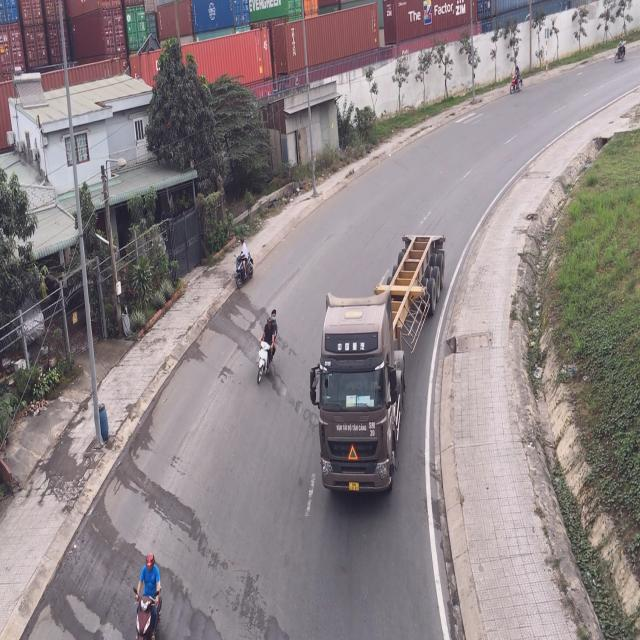motorbike: (134, 558, 162, 640), (256, 308, 279, 386), (235, 243, 255, 291), (616, 34, 629, 66), (509, 65, 524, 92)
truck: (318, 230, 452, 494)
